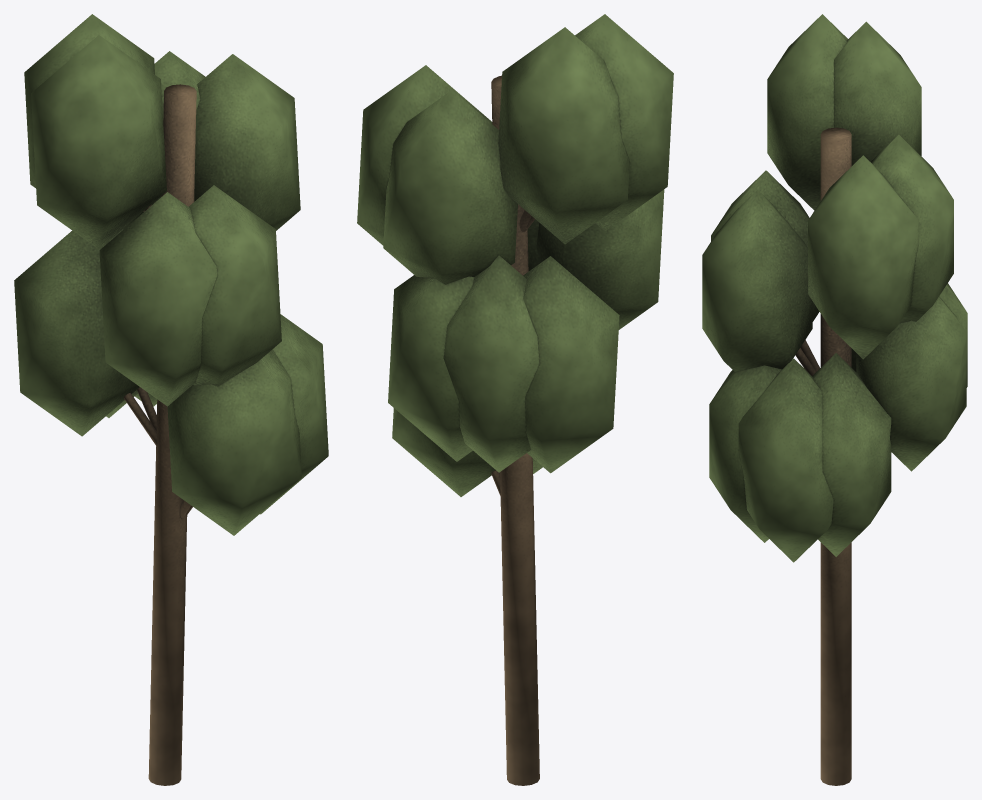
The model's file is OutpostTree.fbx.
3 renders of one model, left to right at view 1: azimuth 30°, elevation 25°; view 2: azimuth 150°, elevation 25°; view 3: azimuth 270°, elevation 25°, orthographic. The views are drawn at different scales.
Parts seen in each view (by area): view 1: OutpostTree; view 2: OutpostTree; view 3: OutpostTree.
Boxes of the visible parts, x1,y1,x2,y2 form: OutpostTree: (14,14,328,785); OutpostTree: (357,14,673,785); OutpostTree: (702,14,967,785).
Bounding box in the file's own units: 1.09 × 2.86 × 0.9406.
Materials: 1 (1 with a texture image).
